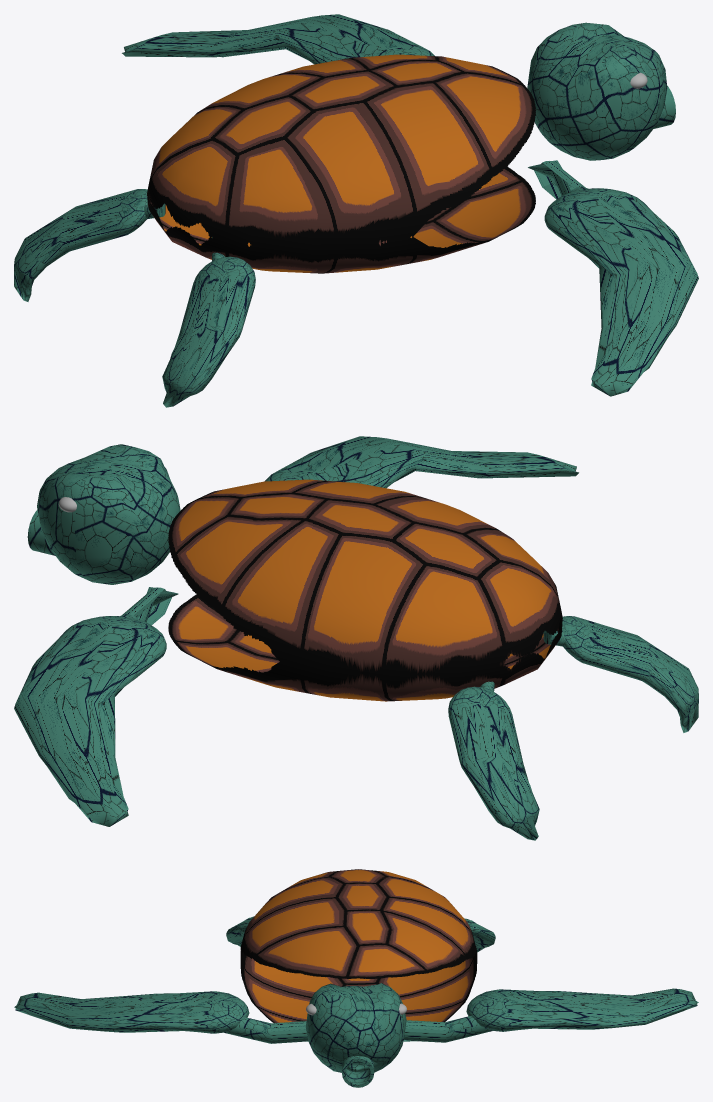
Rendered from MainTurtle 1.fbx.
The picture shows the model from 3 angles, top to bottom: view 1: azimuth 30°, elevation 25°; view 2: azimuth 150°, elevation 25°; view 3: azimuth 270°, elevation 25°; orthographic projection. The views are drawn at different scales.
Visible parts, largest first — view 1: pSphere4, pCylinder17, pPlatonic1, pCylinder15, pCylinder21, pCylinder19; view 2: pSphere4, pCylinder15, pPlatonic1, pCylinder17, pCylinder19, pCylinder21; view 3: pSphere4, pCylinder15, pCylinder17, pPlatonic1, pCylinder24, pCylinder19, pCylinder21.
Boxes of the visible parts, left/top/right/bottom form: pSphere4: left=147, top=54, right=535, bottom=273; pCylinder17: left=528, top=160, right=698, bottom=396; pPlatonic1: left=527, top=22, right=667, bottom=160; pCylinder15: left=122, top=14, right=434, bottom=64; pCylinder21: left=162, top=237, right=255, bottom=407; pCylinder19: left=14, top=189, right=165, bottom=301; pSphere4: left=168, top=479, right=562, bottom=701; pCylinder15: left=14, top=587, right=178, bottom=826; pPlatonic1: left=37, top=444, right=180, bottom=584; pCylinder17: left=264, top=436, right=578, bottom=488; pCylinder19: left=448, top=681, right=539, bottom=840; pCylinder21: left=543, top=616, right=698, bottom=732; pSphere4: left=240, top=869, right=477, bottom=1022; pCylinder15: left=403, top=988, right=698, bottom=1042; pCylinder17: left=14, top=991, right=308, bottom=1043; pPlatonic1: left=305, top=983, right=406, bottom=1072; pCylinder24: left=342, top=1056, right=374, bottom=1087; pCylinder19: left=464, top=918, right=495, bottom=952; pCylinder21: left=226, top=916, right=253, bottom=946.
Bounding box in the file's own units: 10.78 × 3.73 × 15.51.
